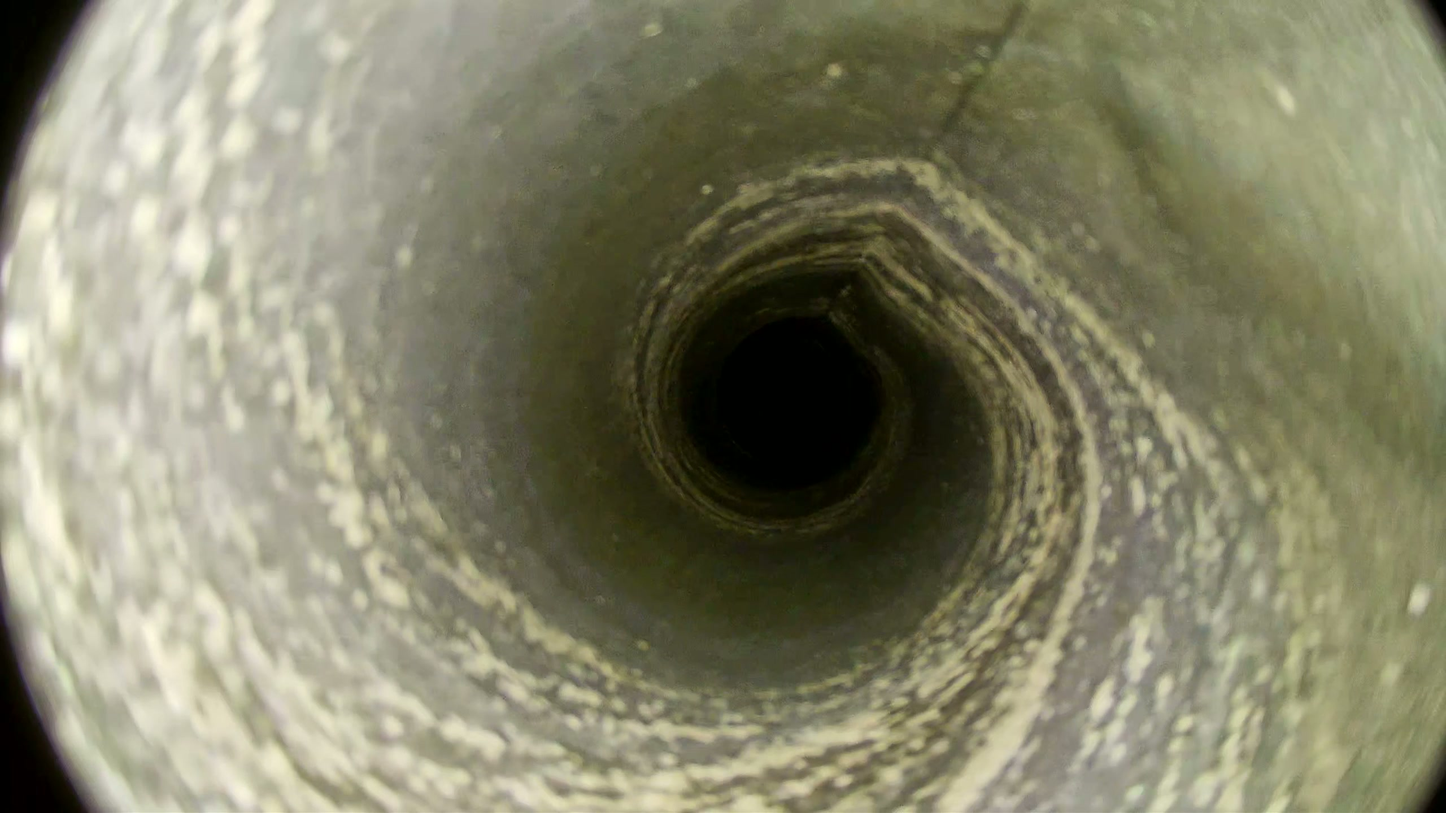hole: (720, 336, 849, 460)
